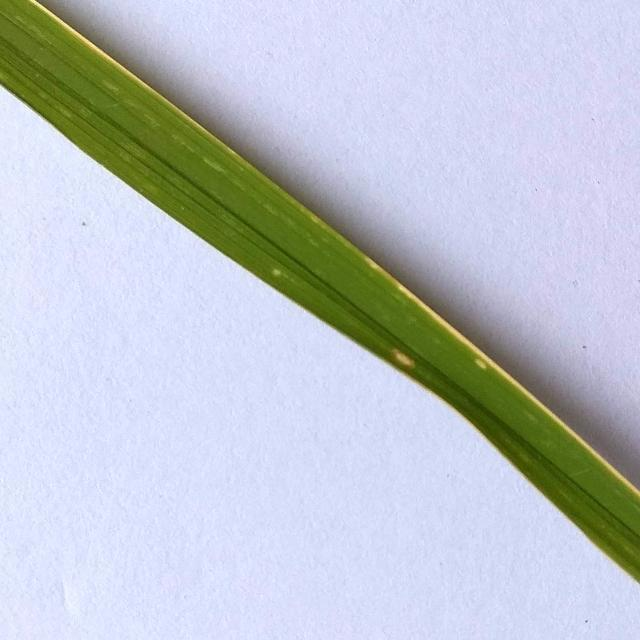Blast: (390, 349, 420, 366), (469, 358, 492, 372)
